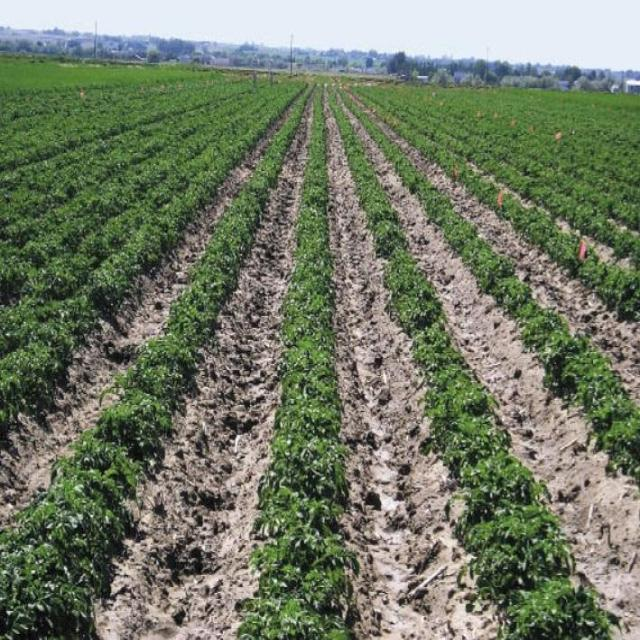row: (349, 116, 637, 640), (68, 121, 306, 640), (325, 115, 509, 640)
